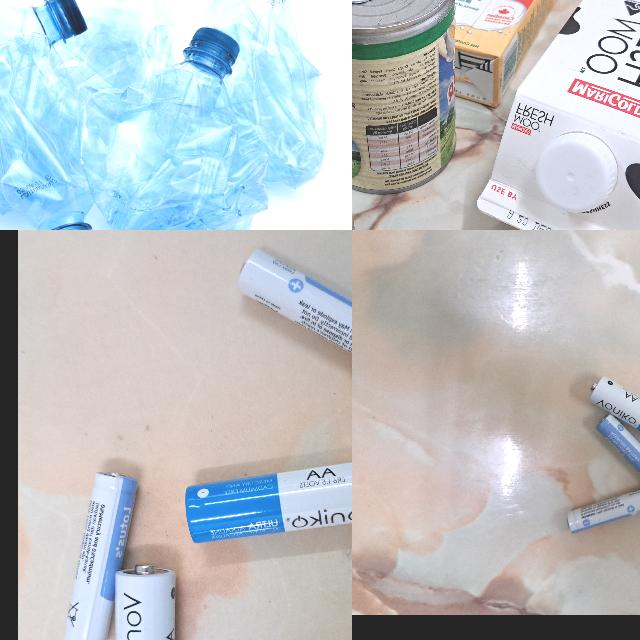bateria: (183, 455, 352, 545), (235, 248, 352, 376), (61, 467, 139, 640), (115, 562, 177, 640), (589, 375, 640, 451), (594, 411, 640, 490), (565, 486, 640, 534)
caixinha: (476, 0, 640, 230), (443, 0, 566, 107)
garrafa plástica: (83, 64, 266, 230), (201, 0, 326, 187), (0, 31, 94, 230), (21, 0, 173, 118), (0, 0, 50, 111)
lata: (352, 0, 455, 193)
tampa plástica: (538, 128, 614, 216), (192, 26, 238, 62), (55, 0, 88, 35)
